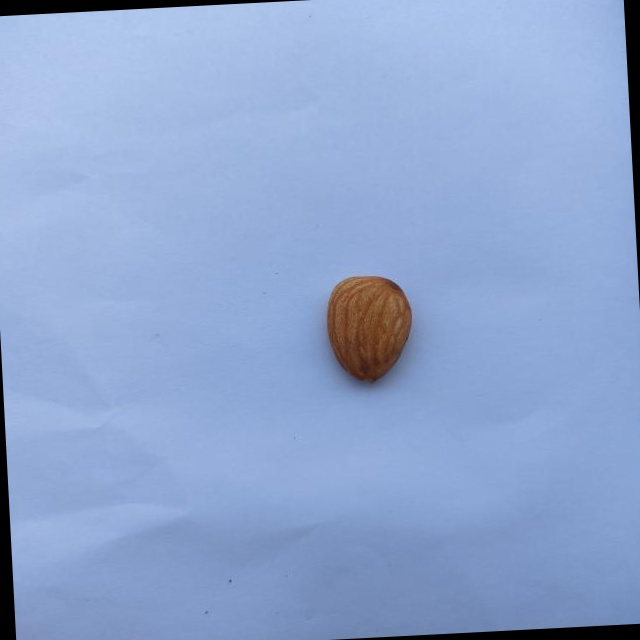grade1: (314, 267, 422, 393)
